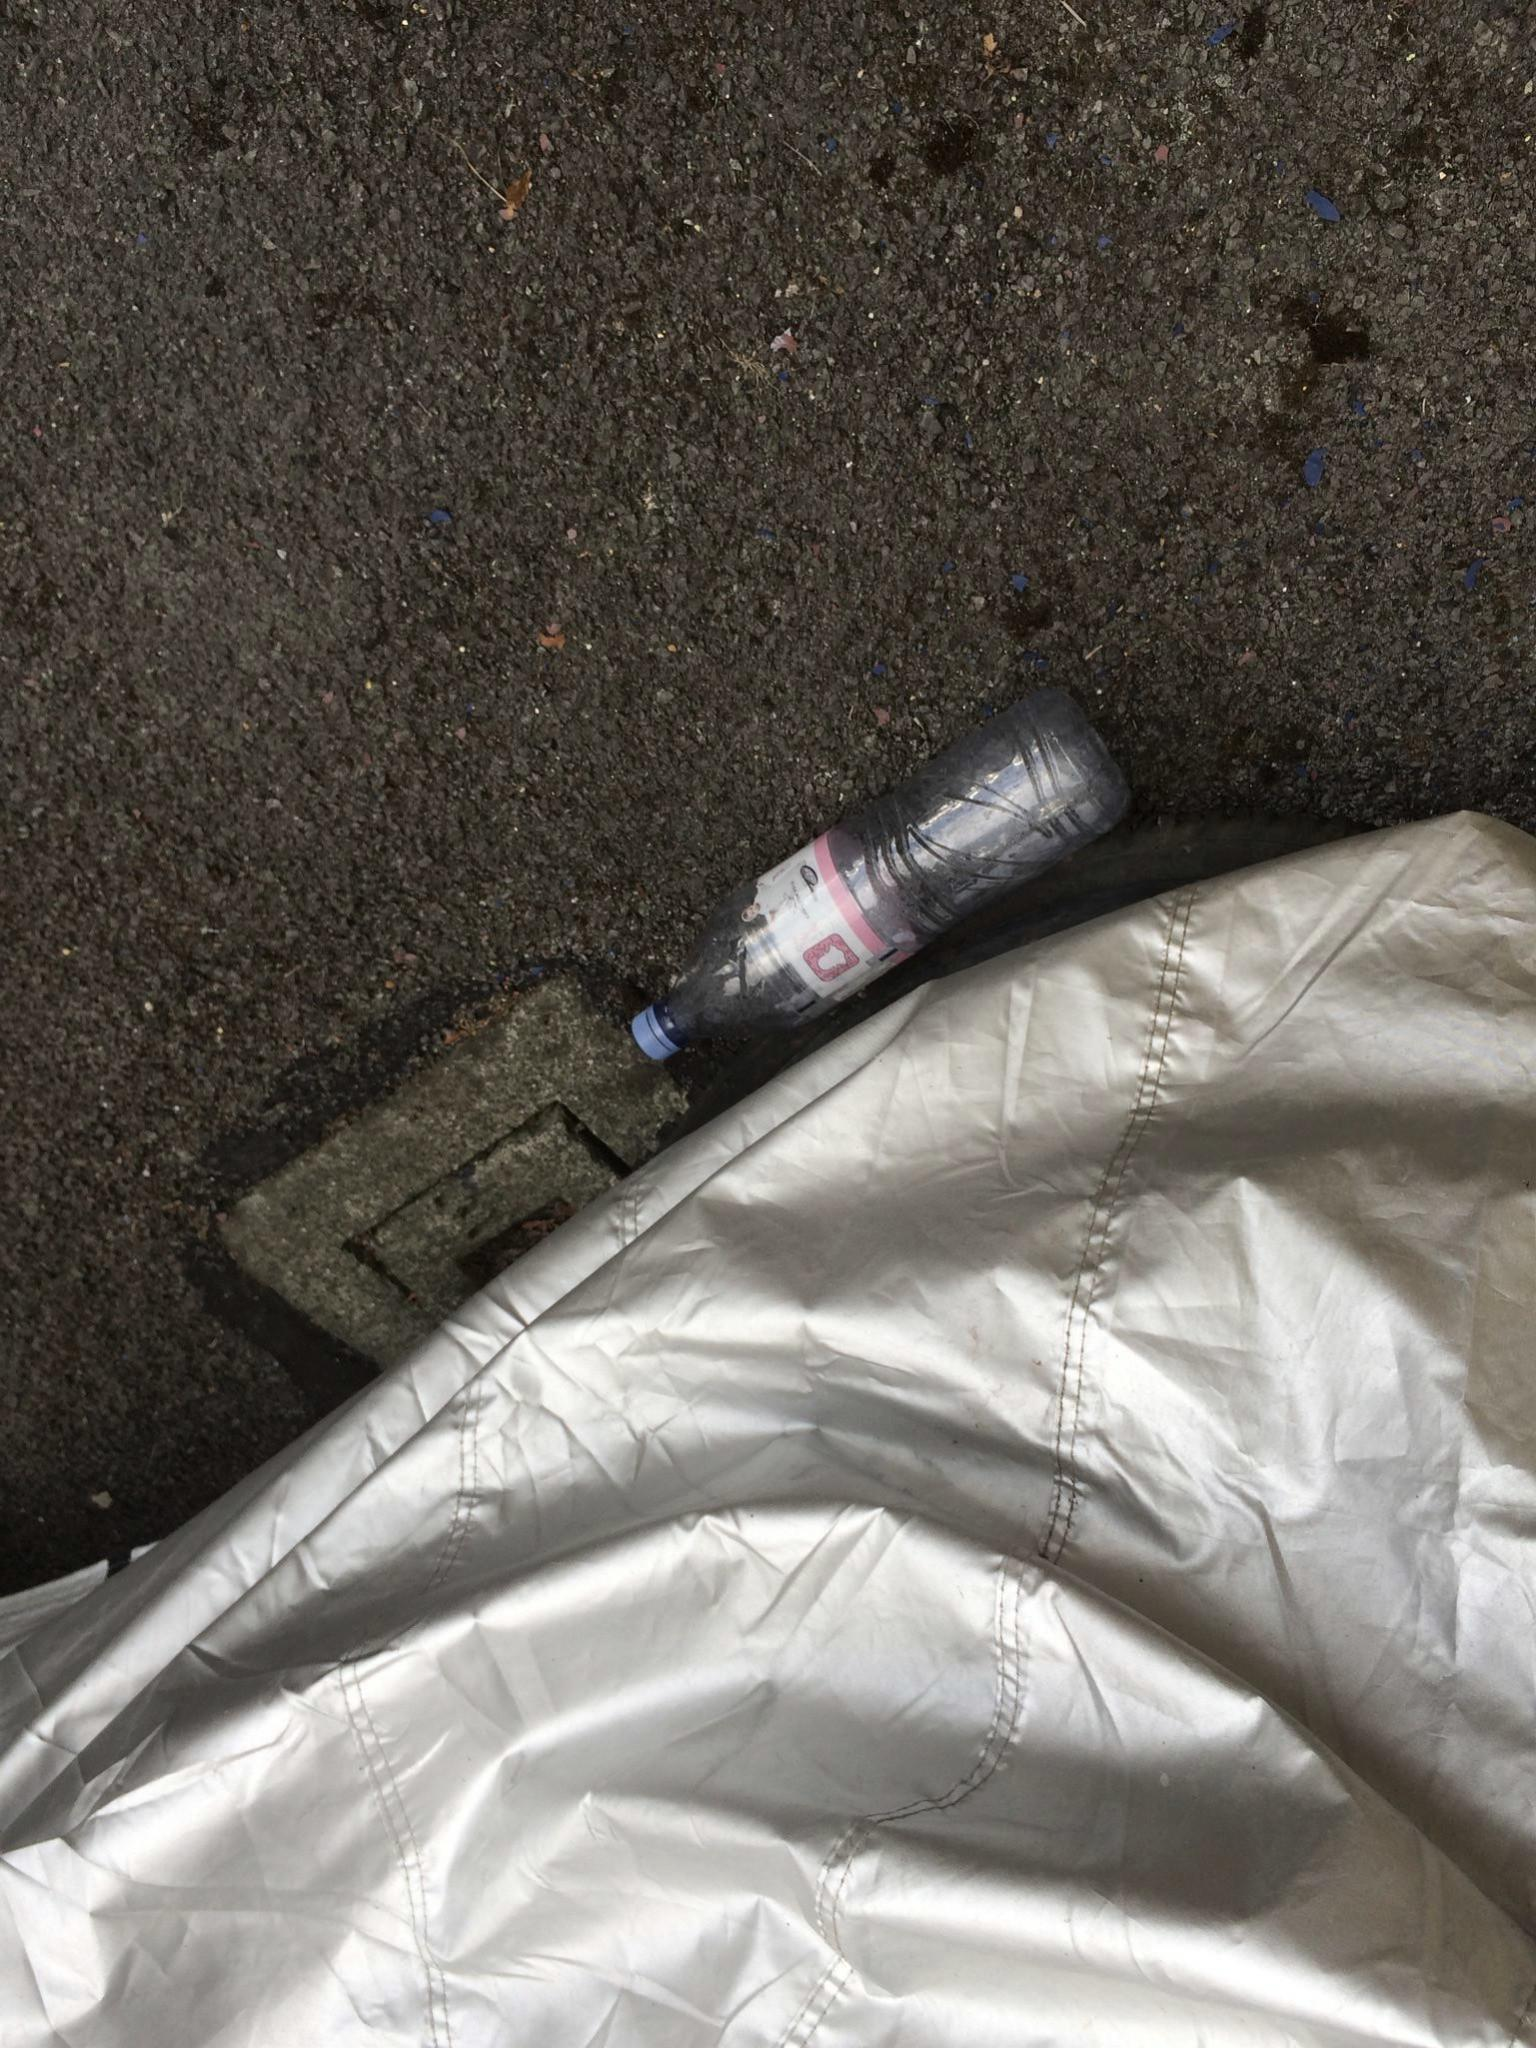Plastic: (597, 669, 1142, 1095)
